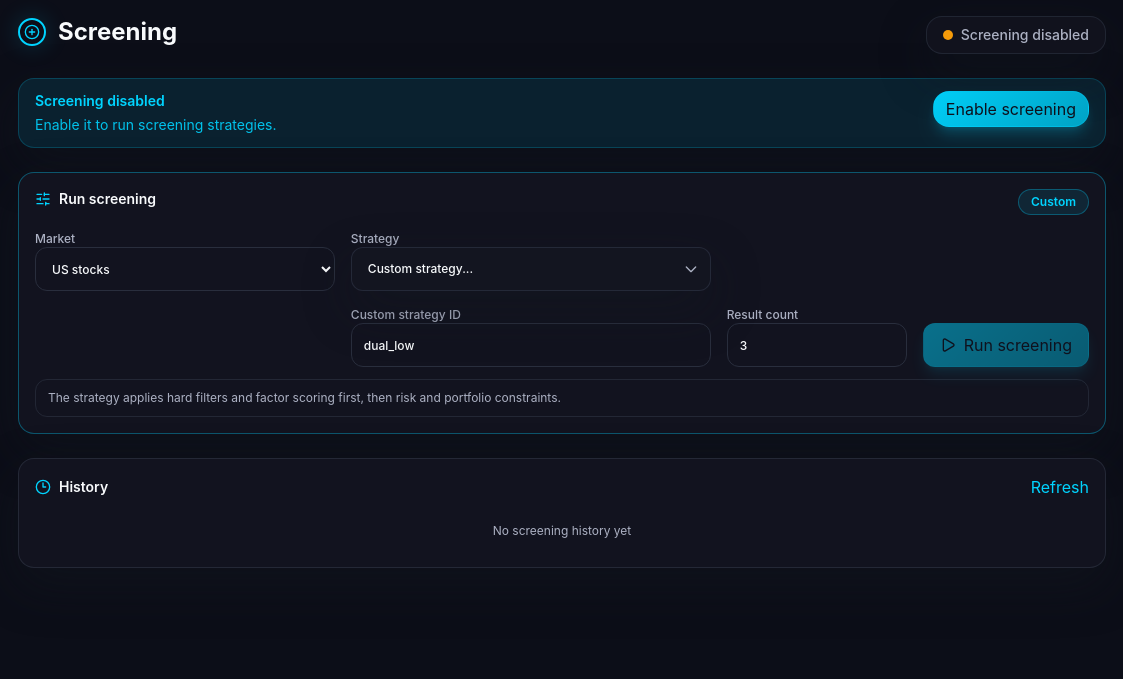
Test case: StockScreeningPage › re-syncs enabled state when Screening availability check fails after config is enabled
The image size is (1123, 679).
Check: the 1st text "Screening disabled" is shown, box [961,25,1089,45]
Check: the button "Run screening" is disabled, box [923,323,1089,367]
What coordinates should you click on to do the following:
click the button "Enable screening"
I would click on:
 (1011, 109)
Its box is [933,91,1089,127].
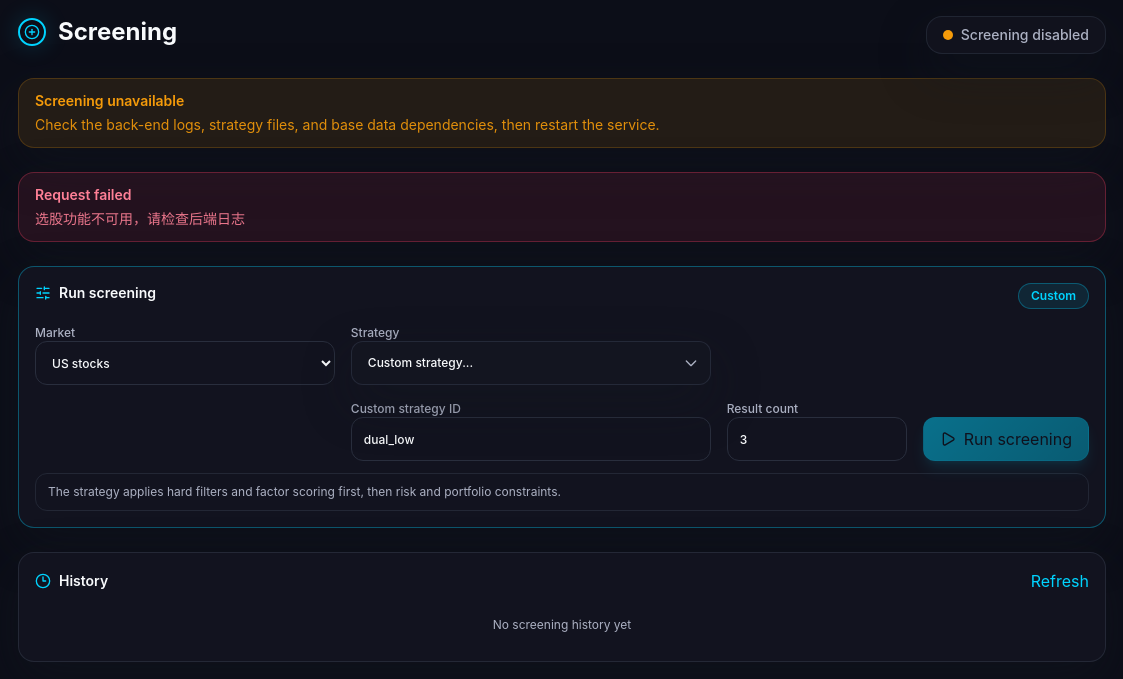
Check: the text "Screening disabled" is shown, box [961,25,1089,45]
Check: the text "Screening unavailable" is shown, box [35,92,184,109]
Check: the text "选股功能不可用，请检查后端日志" is shown, box [35,209,245,229]
